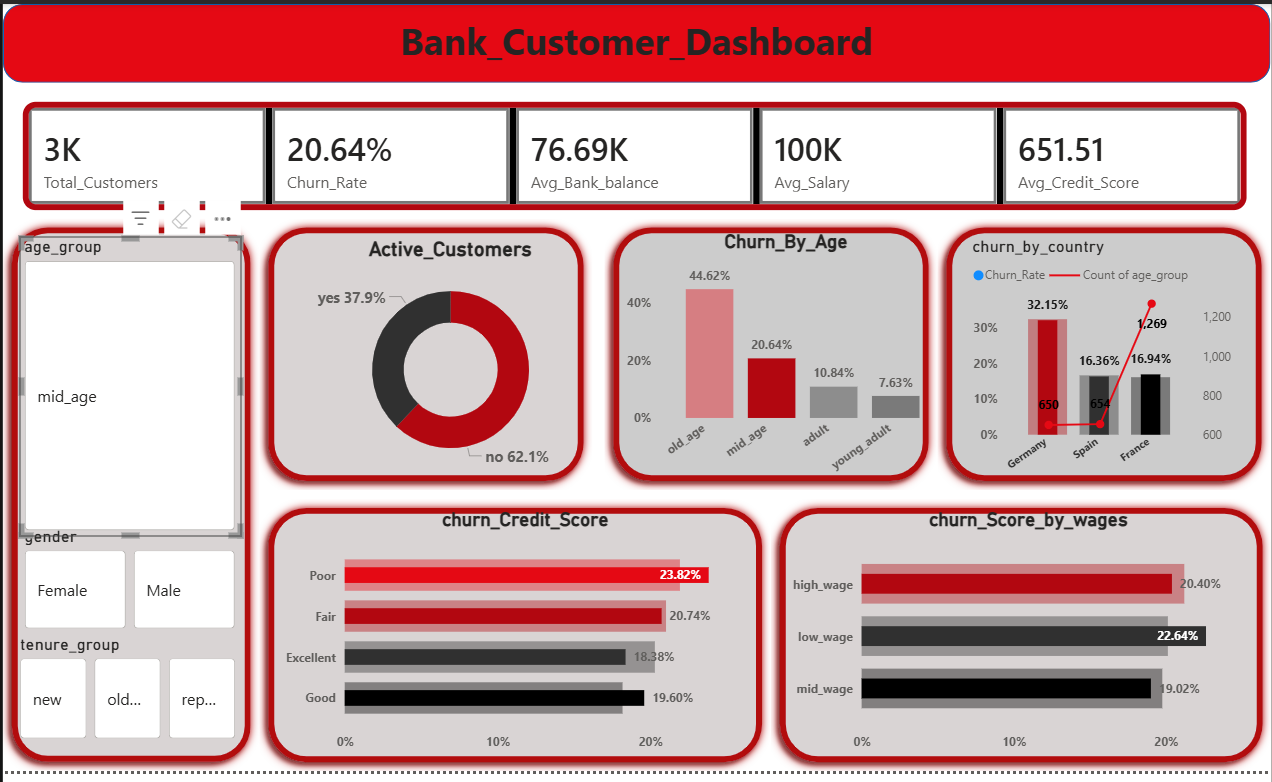

This screenshot's page, from the dashboard's own definition file:
{"tool":"powerbi","page":{"name":"Page 1","canvas":[1280,774],"ordinal":0},"visuals":[{"type":"shape","box":[258.9,216.5,336.2,274.1],"z":0},{"type":"shape","box":[943.3,216.5,336.2,274.1],"z":1000},{"type":"shape","box":[607.2,216.5,336.2,274.1],"z":2000},{"type":"shape","box":[0,0,1279.4,79.4],"z":3000},{"type":"textbox","box":[0,5.7,1279.4,66.1],"z":4000},{"type":"cardVisual","fields":{"Data":["bank_db customer.Total_Customers","bank_db customer.Churn_Rate","bank_db customer.Avg_Bank_balance","bank_db customer.Avg_Salary","bank_db customer.Avg_Credit_Score"]},"box":[0,79.4,1279.4,149.3],"z":5000},{"type":"donutChart","title":"Active_Customers","fields":{"Category":["bank_db customer.active_Status"],"Y":["bank_db customer.Churn_Rate"]},"box":[277.9,235.3,345.8,244.7],"z":6000},{"type":"clusteredColumnChart","title":"Churn_By_Age","fields":{"Category":["bank_db customer.age_group"],"Y":["bank_db customer.Churn_Rate"]},"box":[624,229.2,333.2,261.9],"z":7000},{"type":"lineClusteredColumnComboChart","title":"churn_by_country","fields":{"Category":["bank_db customer.geography"],"Y":["bank_db customer.Churn_Rate"],"Y2":["CountNonNull(bank_db customer.age_group)"]},"box":[974.2,235.3,273.2,244.7],"z":7001},{"type":"shape","box":[259,499,516.3,274.7],"z":7002},{"type":"shape","box":[775.3,499,505.3,274.7],"z":7003},{"type":"barChart","title":"churn_Credit_Score","fields":{"Category":["bank_db customer.credit_score_group"],"Y":["bank_db customer.Churn_Rate"]},"box":[277.9,508.4,497.4,254.2],"z":7004},{"type":"barChart","title":"churn_Score_by_wages","fields":{"Category":["bank_db customer.estimated_salary_group"],"Y":["bank_db customer.Churn_Rate"]},"box":[791.1,508.4,489.5,254.2],"z":7005},{"type":"shape","box":[0,216.3,259,557.4],"z":7006},{"type":"advancedSlicerVisual","fields":{"Values":["bank_db customer.age_group"]},"box":[17.4,235.3,222.6,301.6],"z":7007},{"type":"advancedSlicerVisual","fields":{"Values":["bank_db customer.gender"]},"box":[17.4,527.4,222.6,108.9],"z":7008},{"type":"advancedSlicerVisual","fields":{"Values":["bank_db customer.tenure_group"]},"box":[12.6,636.3,227.4,110.5],"z":7009}]}

Visuals, with their boxes in screenshot pixels (x1, y1, x2, y2), scaled from the page's 1280x774 canvas onto the 1272x782 screenshot:
shape: box=[257, 219, 591, 496]
shape: box=[937, 219, 1271, 496]
shape: box=[603, 219, 938, 496]
shape: box=[0, 0, 1271, 80]
textbox: box=[0, 6, 1271, 73]
cardVisual - bank_db customer.Total_Customers x bank_db customer.Churn_Rate: box=[0, 80, 1271, 231]
"Active_Customers" donutChart: box=[276, 238, 620, 485]
"Churn_By_Age" clusteredColumnChart: box=[620, 232, 951, 496]
"churn_by_country" lineClusteredColumnComboChart: box=[968, 238, 1240, 485]
shape: box=[257, 504, 770, 781]
shape: box=[770, 504, 1271, 781]
"churn_Credit_Score" barChart: box=[276, 514, 770, 770]
"churn_Score_by_wages" barChart: box=[786, 514, 1271, 770]
shape: box=[0, 219, 257, 781]
advancedSlicerVisual - bank_db customer.age_group: box=[17, 238, 238, 542]
advancedSlicerVisual - bank_db customer.gender: box=[17, 533, 238, 643]
advancedSlicerVisual - bank_db customer.tenure_group: box=[13, 643, 238, 755]
